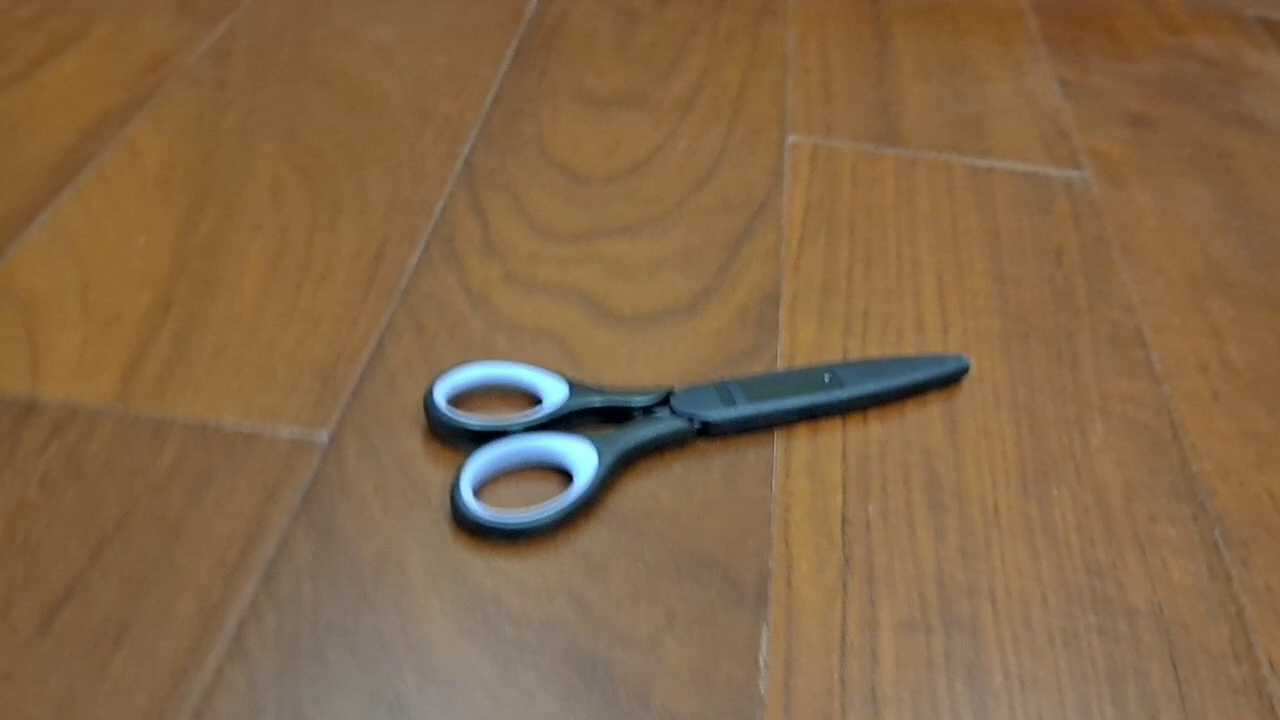scissors: (422, 349, 972, 545)
